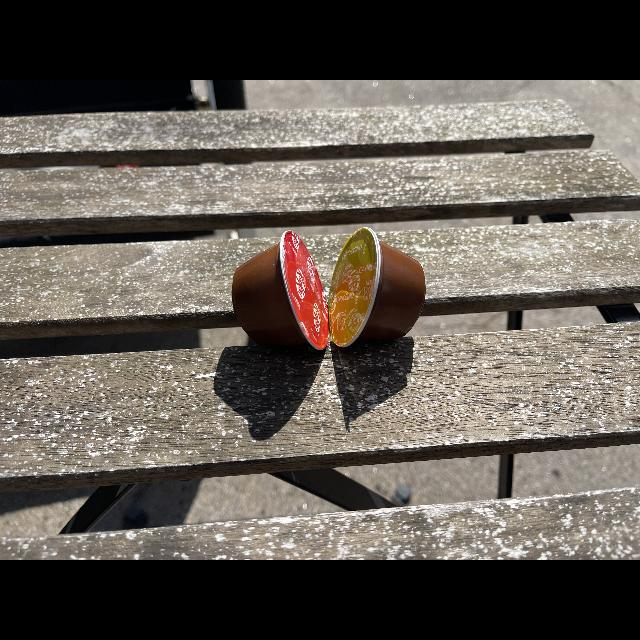intact_capsule: (222, 226, 330, 368), (329, 225, 433, 357)
